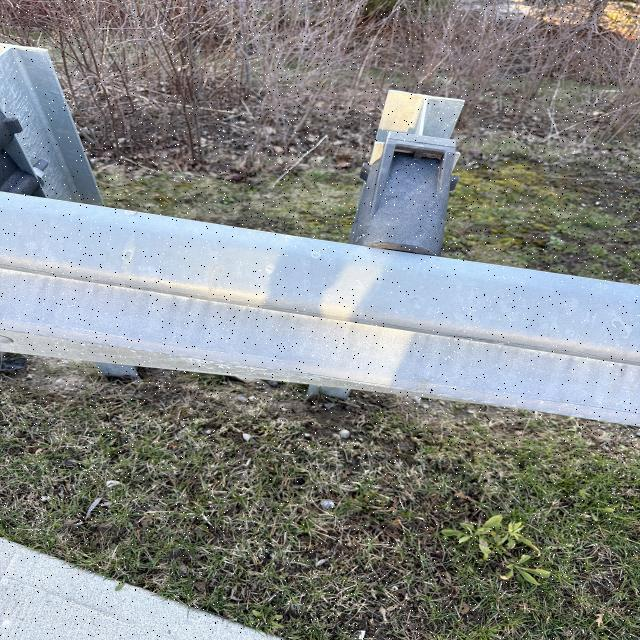Guard rail: (7, 190, 621, 407), (0, 52, 102, 204)
